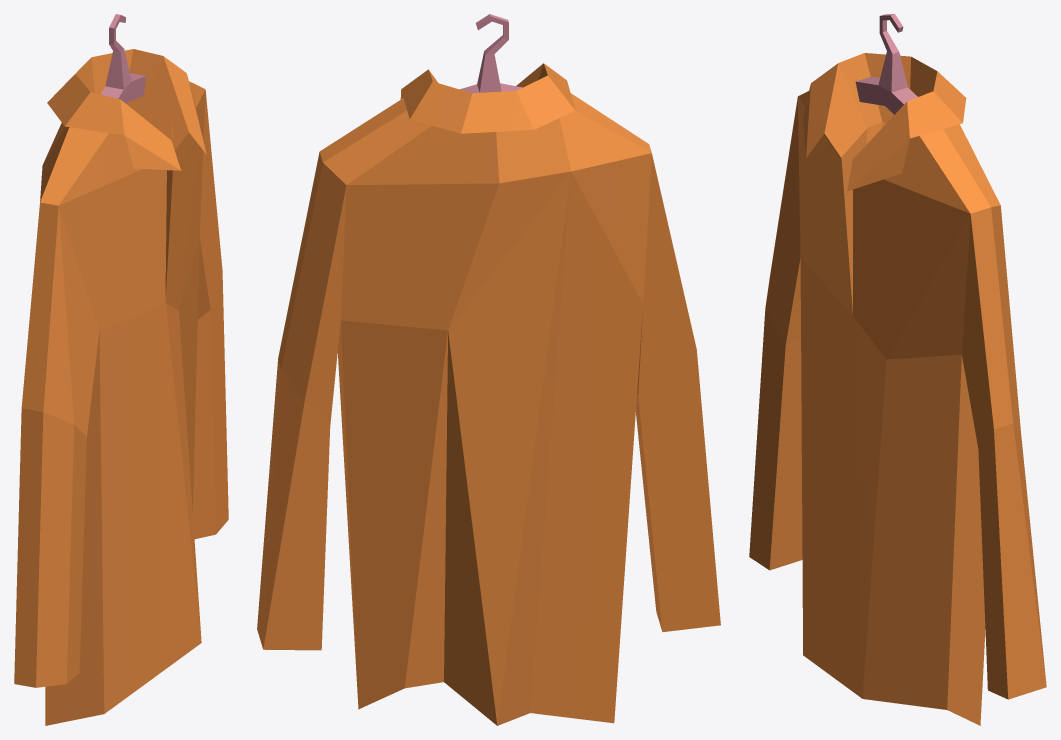
Rendered from Laundry_clothers.fbx.
3 renders of one model, left to right at view 1: azimuth 30°, elevation 25°; view 2: azimuth 150°, elevation 25°; view 3: azimuth 270°, elevation 25°, orthographic. The views are drawn at different scales.
Visible parts, largest first — view 1: Laundry_clothers; view 2: Laundry_clothers; view 3: Laundry_clothers.
Boxes of the visible parts, <box> form: Laundry_clothers: <box>14,14,228,725</box>; Laundry_clothers: <box>257,14,720,725</box>; Laundry_clothers: <box>749,14,1046,725</box>.
Size of the model in its own units: 60.52 by 118 by 46.22.
